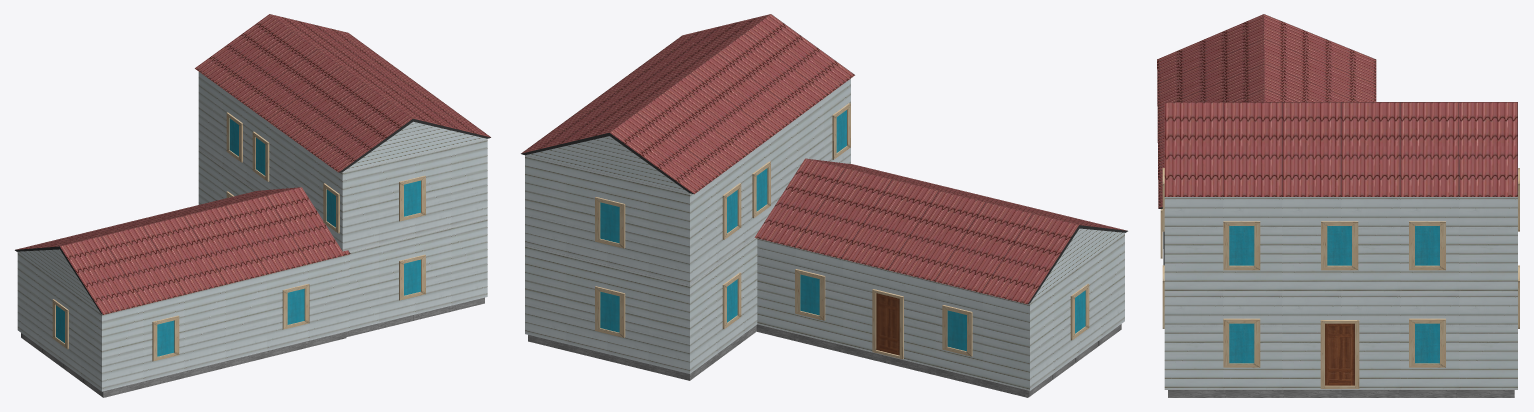
Rendered from Hus4.glb.
The picture shows the model from 3 angles, left to right: view 1: azimuth 30°, elevation 25°; view 2: azimuth 150°, elevation 25°; view 3: azimuth 270°, elevation 25°; orthographic projection. The views are drawn at different scales.
Parts seen in each view (by area): view 1: Hus4; view 2: Hus4; view 3: Hus4.
Boxes of the visible parts, <box> form: Hus4: <box>15,14,490,397</box>; Hus4: <box>521,14,1127,397</box>; Hus4: <box>1157,14,1519,397</box>.
Size of the model in its own units: 18.27 by 9.07 by 11.87.
Materials: 1 (1 with a texture image).
